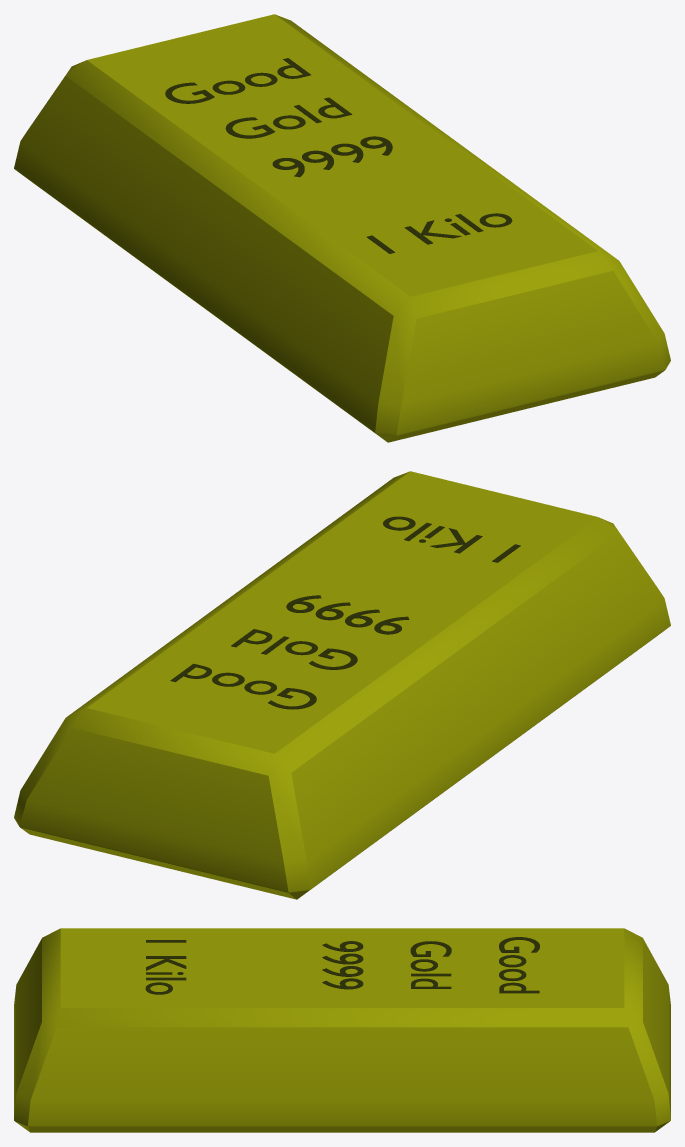
File: Gold.obj
3 renders of one model, top to bottom at view 1: azimuth 30°, elevation 25°; view 2: azimuth 150°, elevation 25°; view 3: azimuth 270°, elevation 25°, orthographic. The views are drawn at different scales.
Visible parts, largest first — view 1: Cube, Text; view 2: Cube, Text; view 3: Cube, Text.
Part boxes in pixels (bbox=[...]): Cube: bbox=[14, 14, 670, 442]; Text: bbox=[165, 58, 512, 253]; Cube: bbox=[14, 471, 670, 899]; Text: bbox=[170, 516, 520, 709]; Cube: bbox=[14, 928, 670, 1132]; Text: bbox=[145, 937, 539, 994].
Bounding box in the file's own units: 1.82 × 0.7285 × 4.02.
